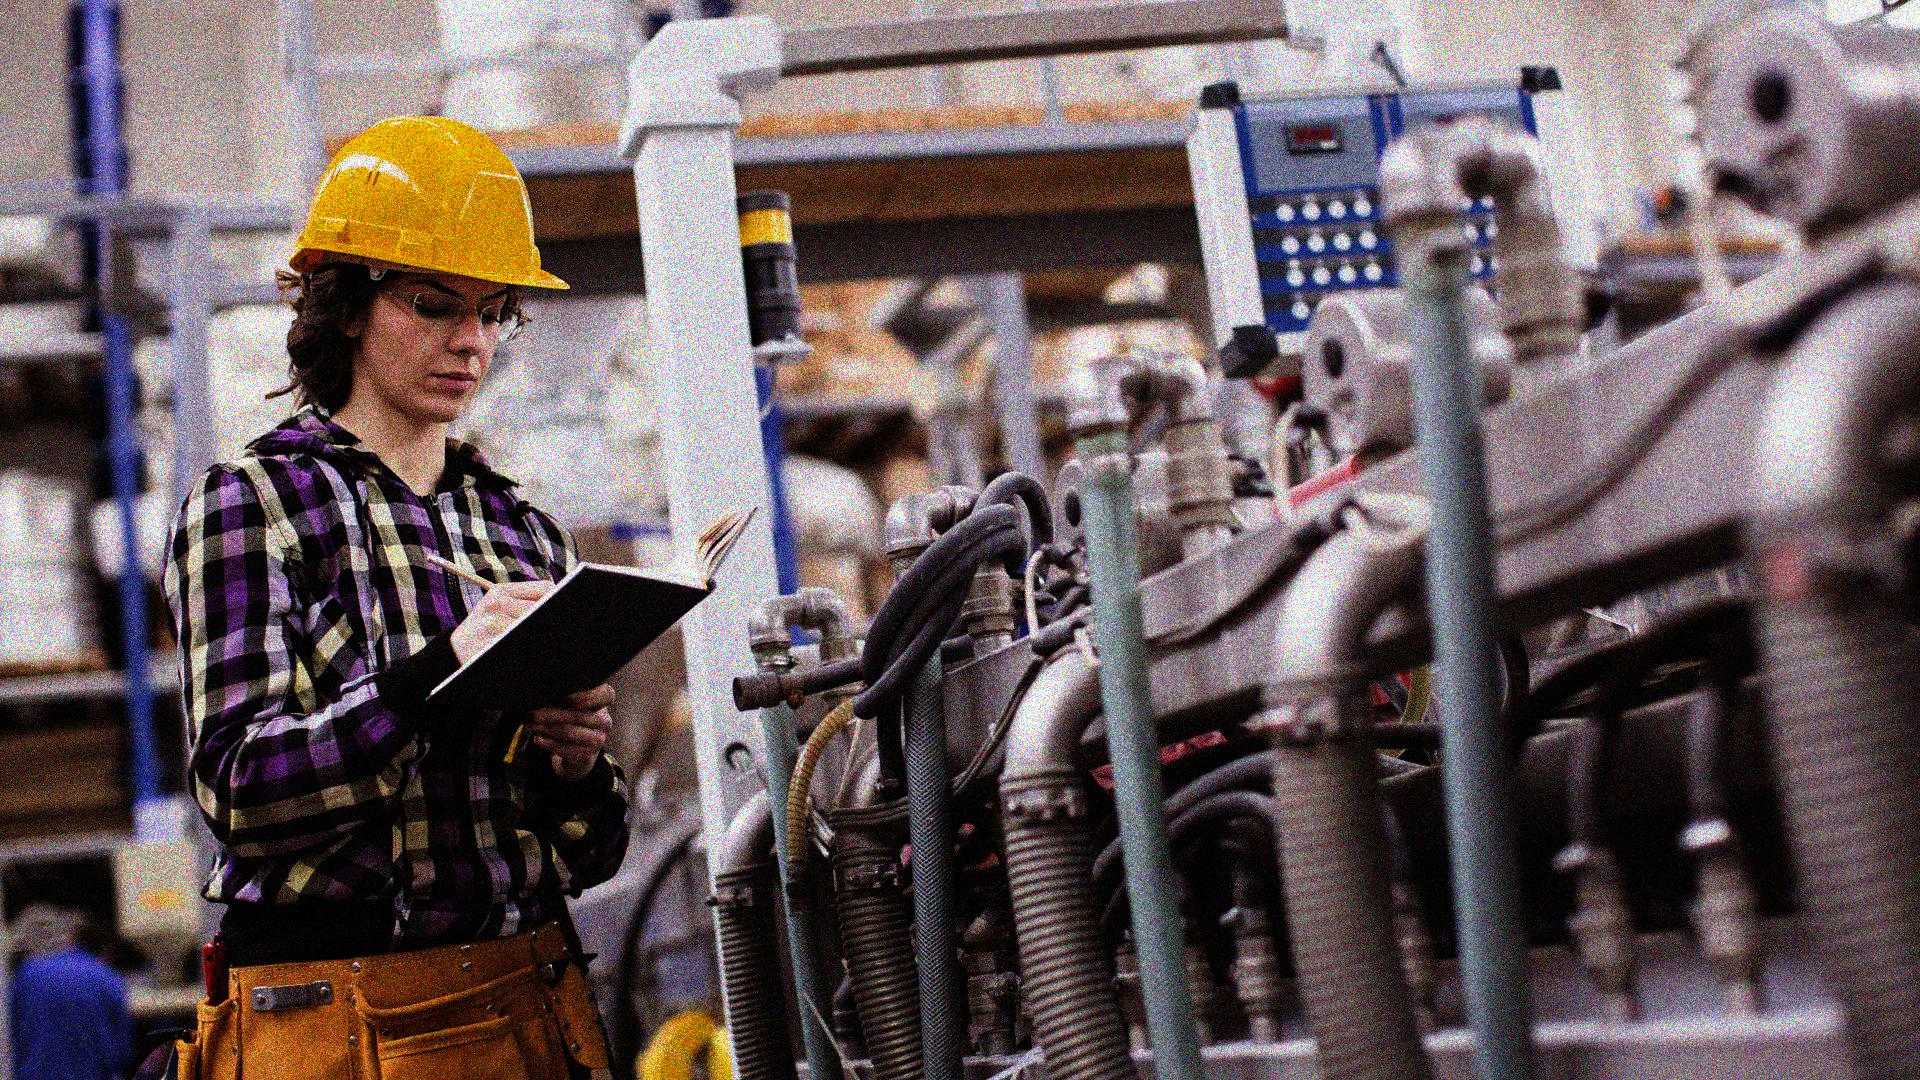helmet: (287, 111, 568, 427)
